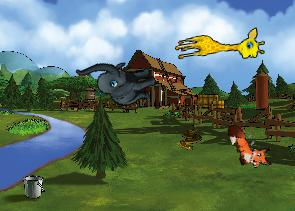elephant: (75, 41, 161, 120)
fox: (224, 115, 275, 176)
giraffe: (173, 26, 266, 70)
